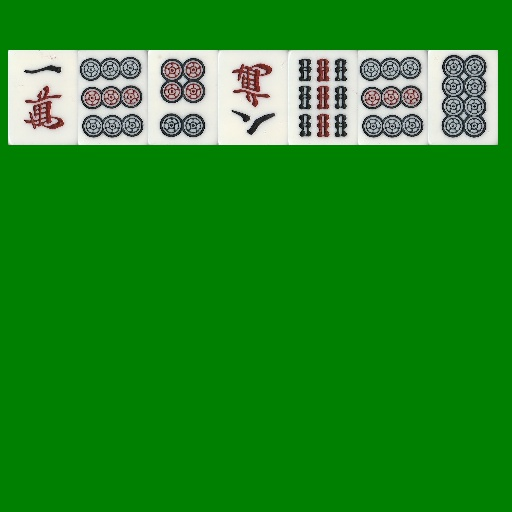1m: (8, 50, 78, 145)
6p: (148, 50, 218, 145)
8m: (218, 50, 288, 145)
8p: (428, 50, 498, 145)
9p: (78, 50, 148, 145), (358, 50, 428, 145)
9s: (288, 50, 358, 145)
